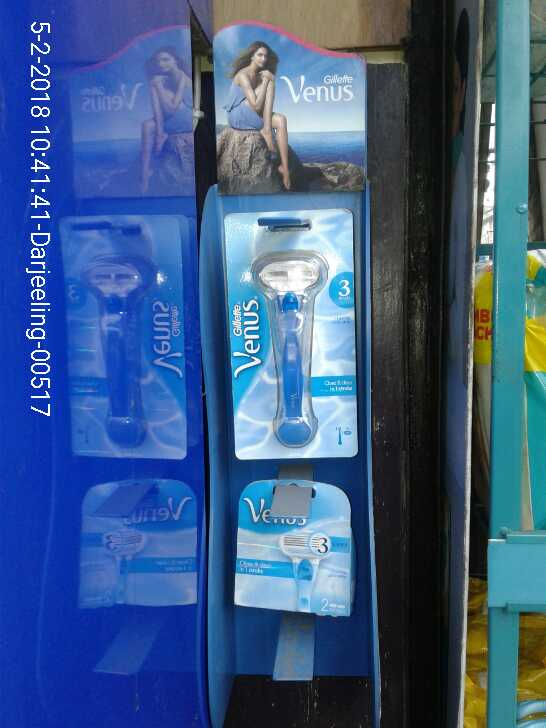venus: (231, 215, 360, 455), (233, 486, 351, 625)
